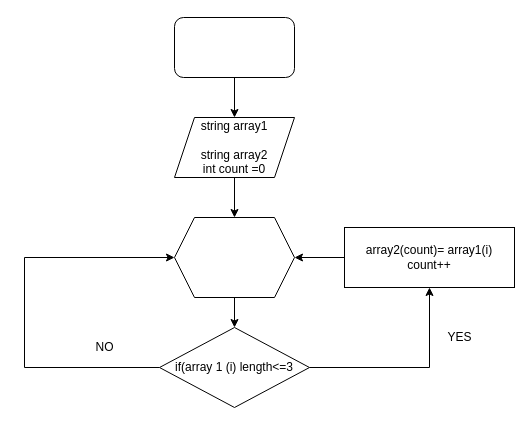
This 532x425 diagram has some shape labels left out. The centre of each missing label's shape, as x and y in pixels:
for ( int i=0; i< array1.length i++): the point at 234,257
Start Second array: the point at 234,47
